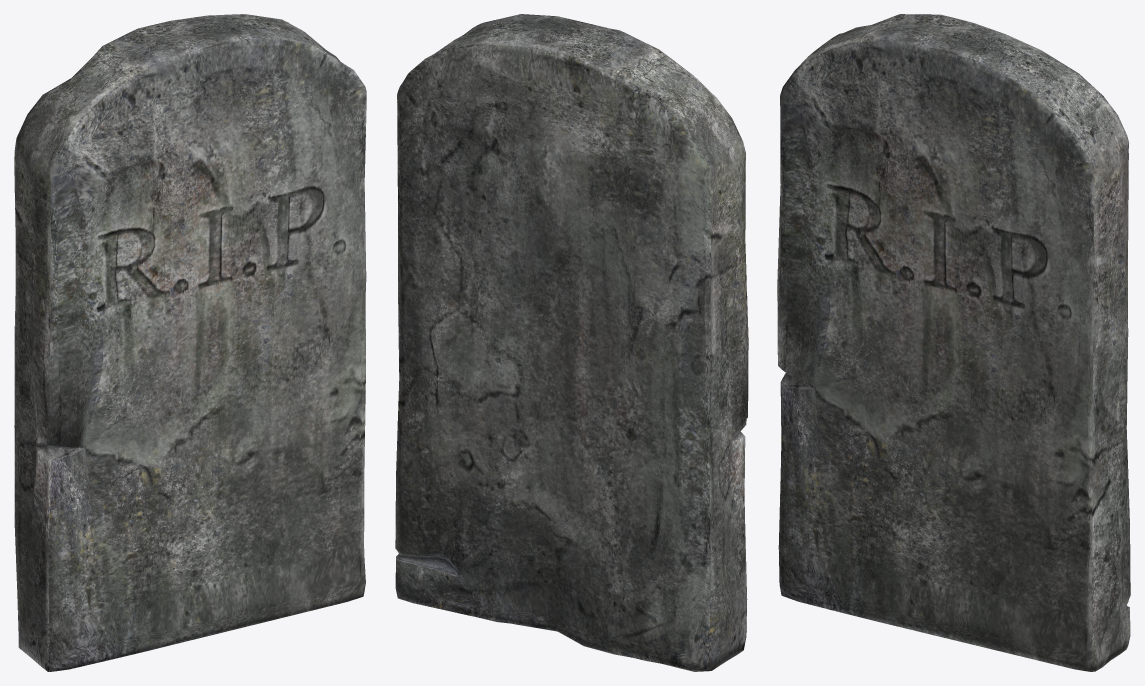
The model's file is tombstone.obj.
3 renders of one model, left to right at view 1: azimuth 30°, elevation 25°; view 2: azimuth 150°, elevation 25°; view 3: azimuth 330°, elevation 25°, orthographic.
Parts seen in each view (by area): view 1: Tombstone_RIP; view 2: Tombstone_RIP; view 3: Tombstone_RIP.
Part boxes in pixels (x1=…): Tombstone_RIP: x1=14, y1=14, x2=366, y2=671; Tombstone_RIP: x1=395, y1=14, x2=748, y2=671; Tombstone_RIP: x1=777, y1=14, x2=1130, y2=671.
Size of the model in its own units: 0.4261 by 0.73 by 0.1012.
Materials: 1 (1 with a texture image).
